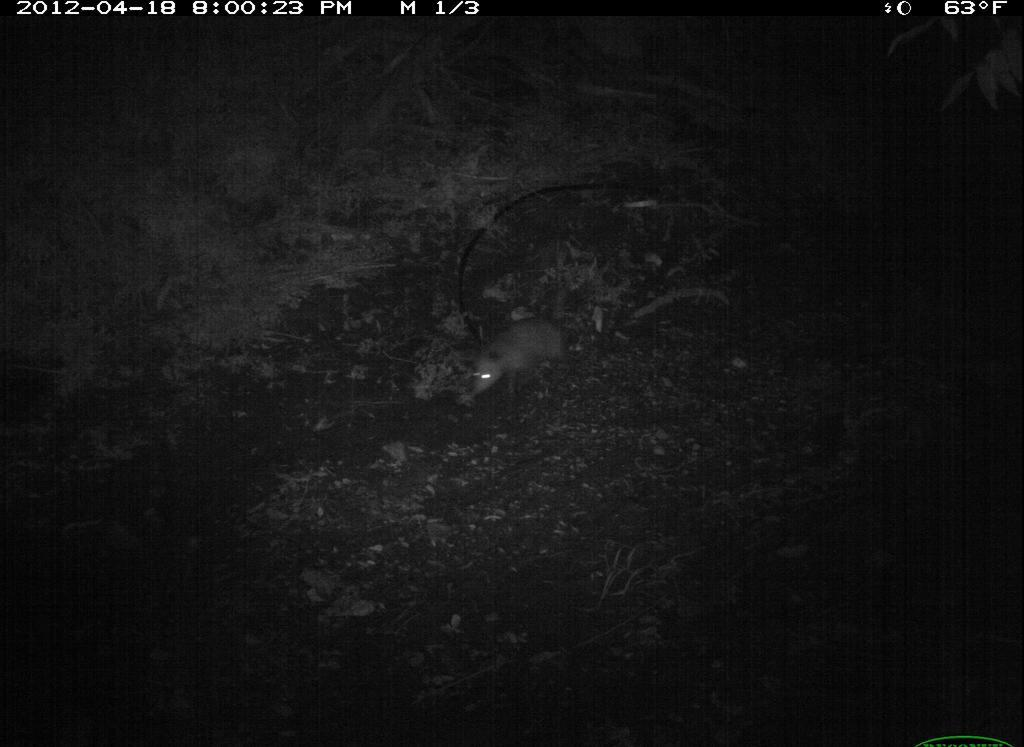opossum: (463, 286, 615, 405)
